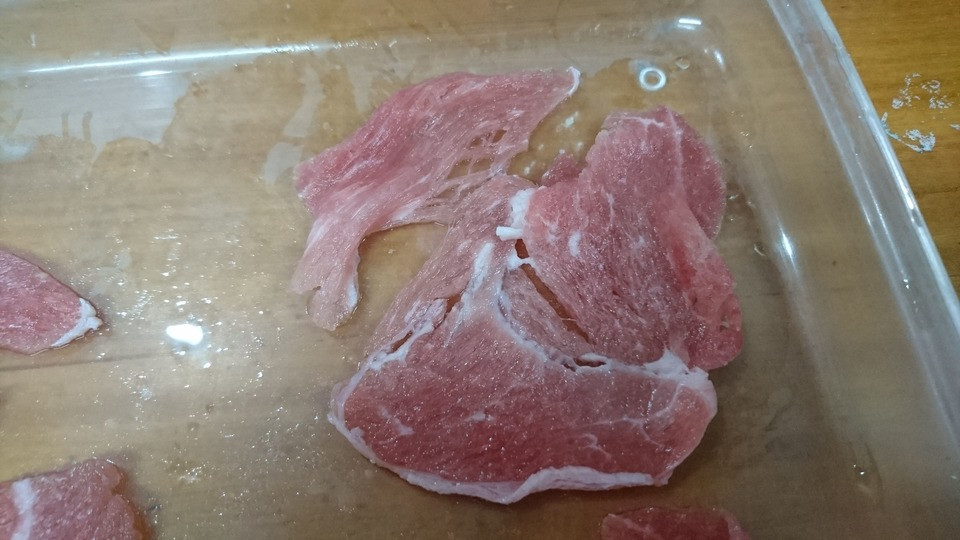restructured meat: (282, 90, 738, 493), (1, 241, 116, 367), (1, 450, 144, 540)
